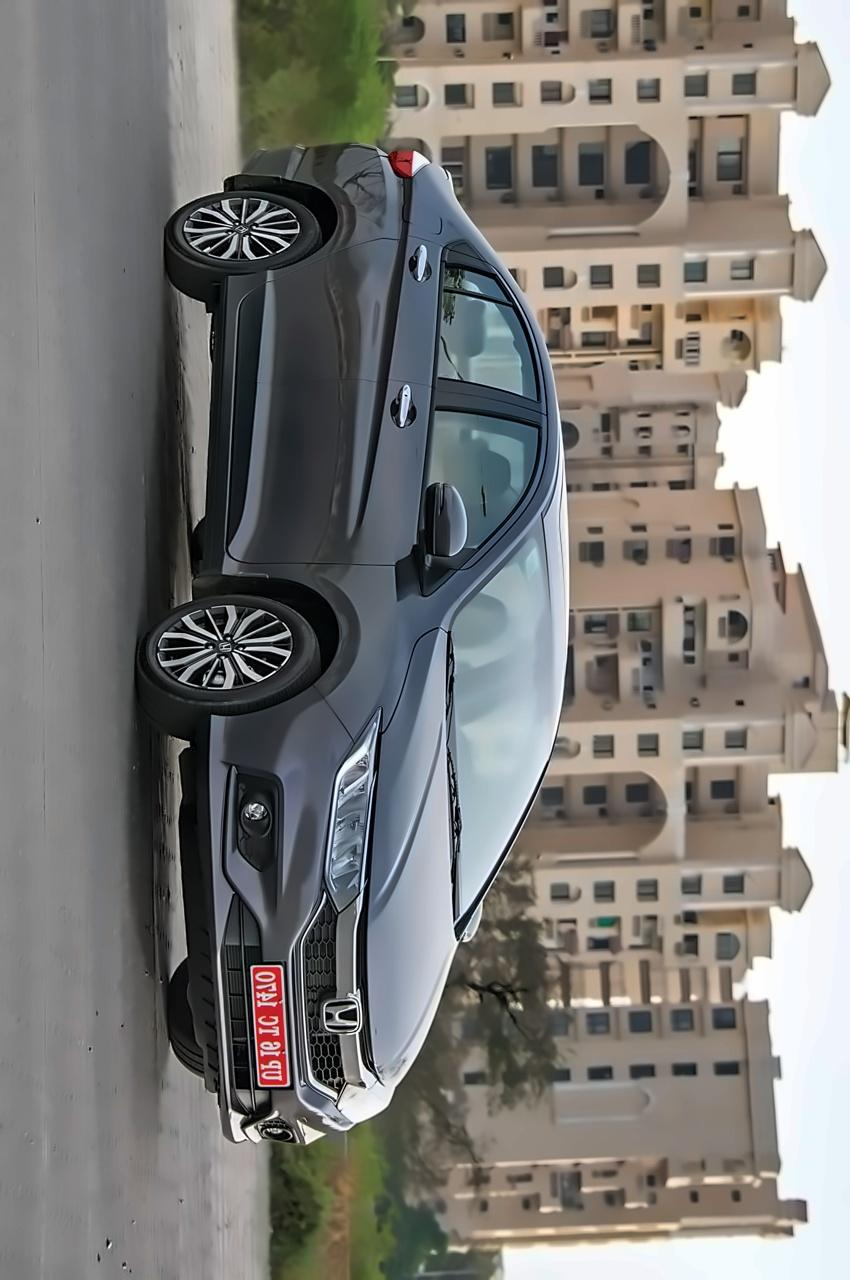Car hood: (364, 614, 463, 1095)
Driver-s door - -F-R-: (222, 372, 558, 575)
Fender - -F-R-: (170, 540, 481, 748)
Fender - -R-R-: (208, 152, 498, 306)
Front bumper: (170, 680, 356, 1157)
Headlight - -L-: (324, 1063, 399, 1145)
Headlight - -R-: (314, 700, 396, 918)
Passenger-s door - -R-R-: (228, 228, 558, 377)
Rear bumper: (224, 114, 387, 192)
Rear light - -R-: (384, 136, 441, 195)
Side bumper - -R-: (182, 262, 267, 600)
Side mirror - -L-: (448, 884, 501, 958)
Side mirror - -R-: (406, 464, 483, 582)
